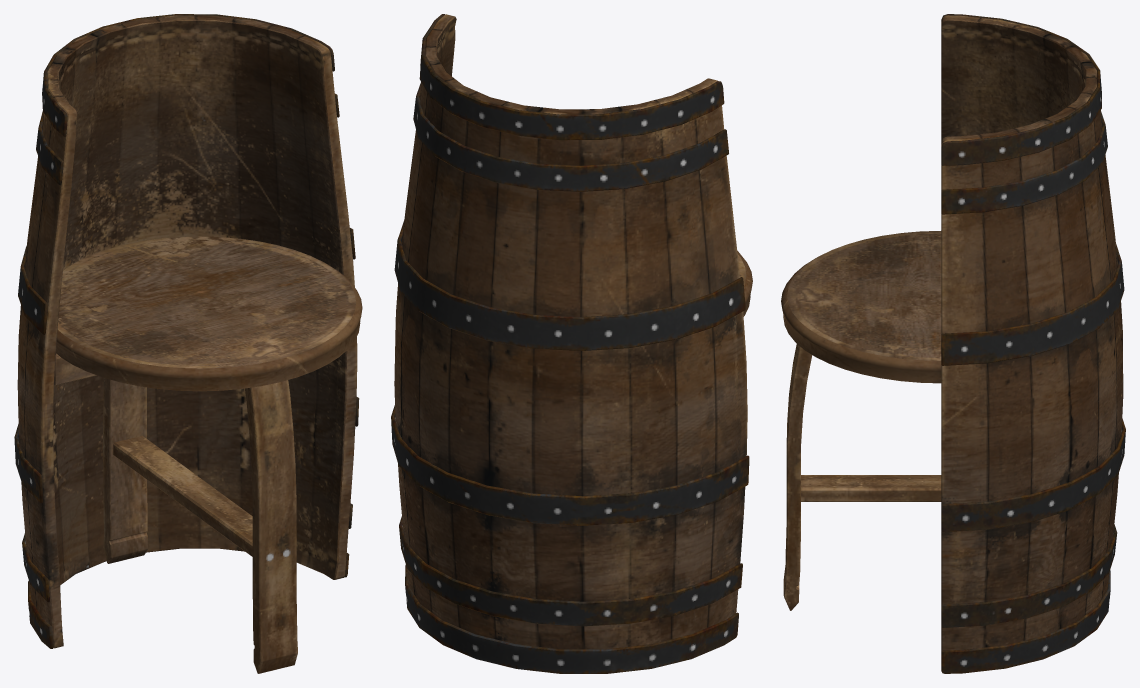
Rendered from Prop_Wood_Chair.fbx.
The picture shows the model from 3 angles, left to right: view 1: azimuth 30°, elevation 25°; view 2: azimuth 150°, elevation 25°; view 3: azimuth 270°, elevation 25°; orthographic projection. The views are drawn at different scales.
Visible parts, largest first — view 1: Prop_Wood_Chair; view 2: Prop_Wood_Chair; view 3: Prop_Wood_Chair.
Boxes of the visible parts, x1,y1,x2,y2 form: Prop_Wood_Chair: (14, 14, 362, 673); Prop_Wood_Chair: (391, 14, 752, 673); Prop_Wood_Chair: (781, 14, 1125, 673).
Size of the model in its own units: 29.44 by 46.92 by 27.92.
